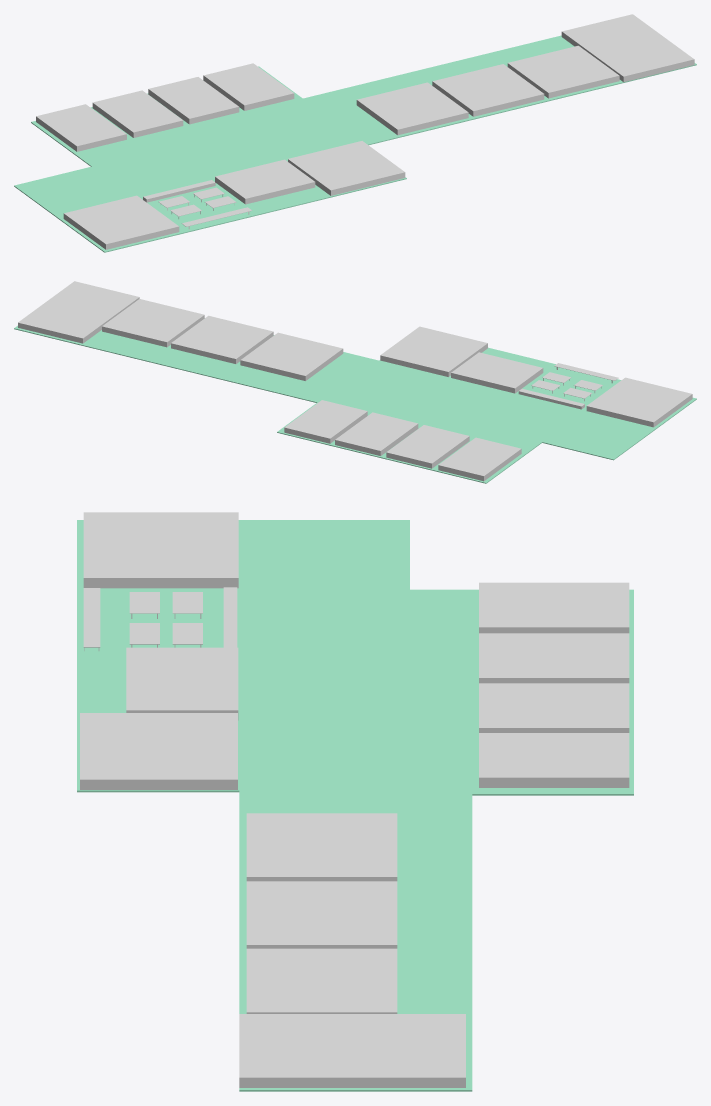
Rendered from schoolmap_5F.glb.
3 views of the same model, one above another, from view 1: azimuth 30°, elevation 25°; view 2: azimuth 150°, elevation 25°; view 3: azimuth 270°, elevation 25° (orthographic). The views are drawn at different scales.
Visible parts, largest first — view 1: 5F, 509, 504, 501, 506, 507, 508, 503, 514, 513, 515, 512 (+1 smaller); view 2: 5F, 509, 504, 501, 506, 507, 508, 503, 515, 513, 514, 512 (+1 smaller); view 3: 5F, 509, 504, 501, 506, 507, 508, 512, 515, 514, 513, 503 (+1 smaller).
Boxes of the visible parts, x1,y1,x2,y2 form: 5F: (14, 35, 696, 252); 509: (561, 14, 694, 82); 504: (288, 141, 405, 195); 501: (63, 195, 179, 249); 506: (356, 82, 468, 135); 507: (432, 64, 544, 116); 508: (507, 45, 619, 98); 503: (215, 159, 315, 204); 514: (92, 90, 183, 137); 513: (148, 77, 239, 124); 515: (36, 104, 126, 151); 512: (203, 63, 294, 110); 5F: (14, 325, 696, 483); 509: (18, 281, 139, 343); 504: (380, 326, 487, 376); 501: (586, 377, 692, 427); 506: (240, 332, 343, 380); 507: (171, 315, 273, 363); 508: (102, 299, 204, 347); 503: (451, 352, 543, 393); 515: (438, 437, 521, 481); 513: (335, 412, 418, 455); 514: (386, 425, 469, 468); 512: (284, 400, 367, 443); 5F: (77, 520, 633, 1091); 509: (239, 1014, 465, 1087); 504: (80, 713, 237, 789); 501: (83, 512, 238, 588); 506: (246, 813, 397, 881); 507: (246, 881, 397, 948); 508: (246, 948, 397, 1013); 512: (479, 733, 629, 787); 515: (479, 582, 629, 633); 514: (479, 633, 629, 683); 513: (479, 683, 629, 732); 503: (126, 647, 238, 720).
Bounding box in the file's own units: 5.87 × 0.0571 × 2.42.
